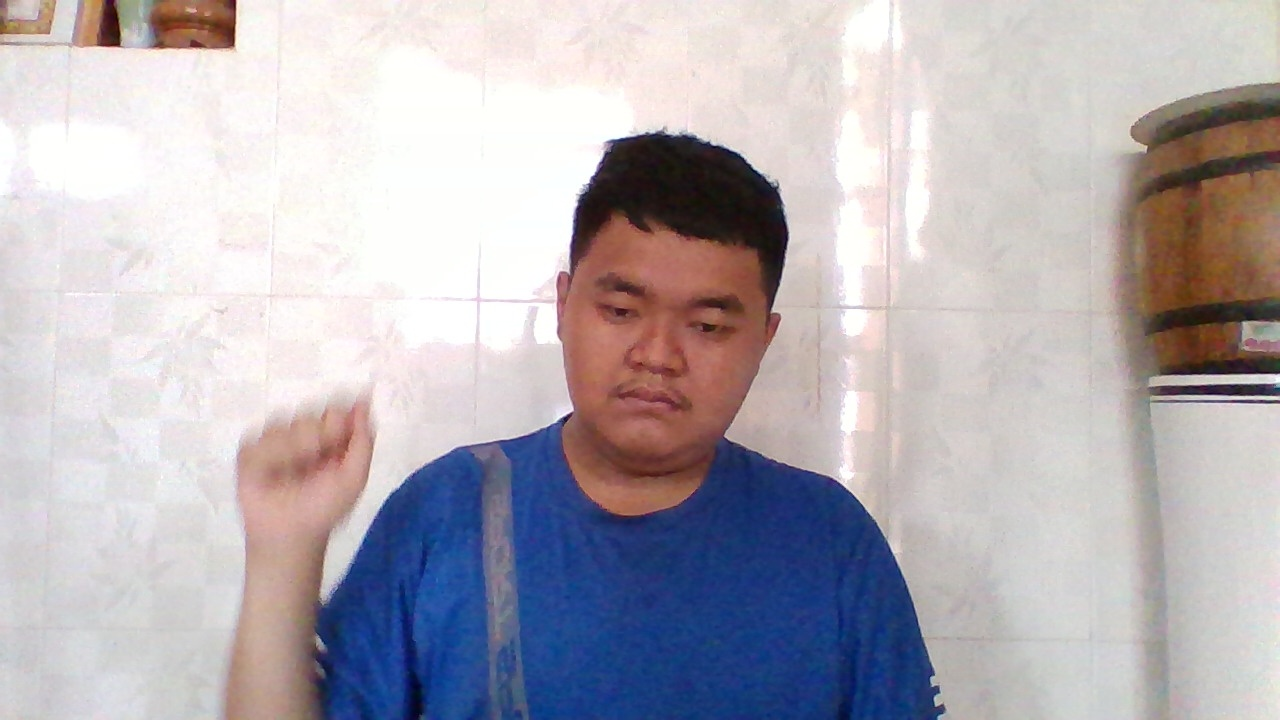A: (236, 389, 382, 539)
